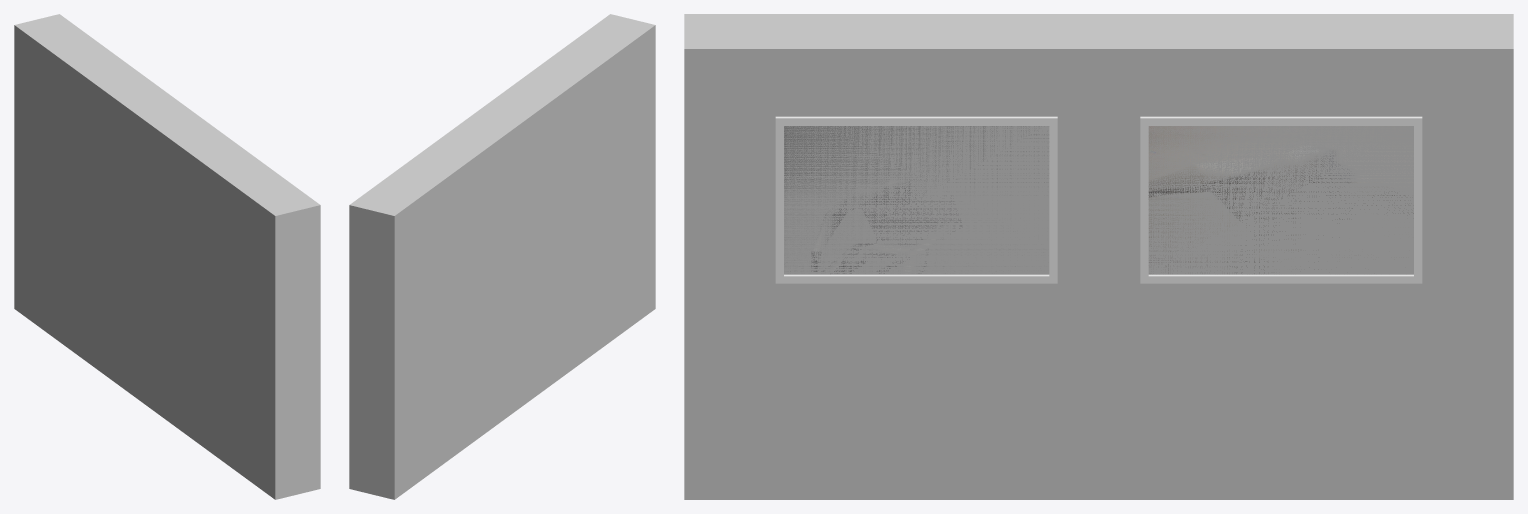
File: wall_pic_double_5x3x0.5.glb
The picture shows the model from 3 angles, left to right: view 1: azimuth 30°, elevation 25°; view 2: azimuth 150°, elevation 25°; view 3: azimuth 270°, elevation 25°; orthographic projection. The views are drawn at different scales.
Visible parts, largest first — view 1: Wall; view 2: Wall; view 3: Wall, Plane, Plane.001, Frame, Frame.001.
Boxes of the visible parts, x1,y1,x2,y2 form: Wall: [14, 14, 320, 499]; Wall: [349, 14, 655, 499]; Wall: [684, 14, 1513, 499]; Plane: [784, 126, 1048, 273]; Plane.001: [1148, 126, 1413, 274]; Frame: [775, 116, 1057, 283]; Frame.001: [1140, 116, 1422, 283].
Size of the model in its own units: 0.525 by 3 by 5.
4 materials, 2 textured.
